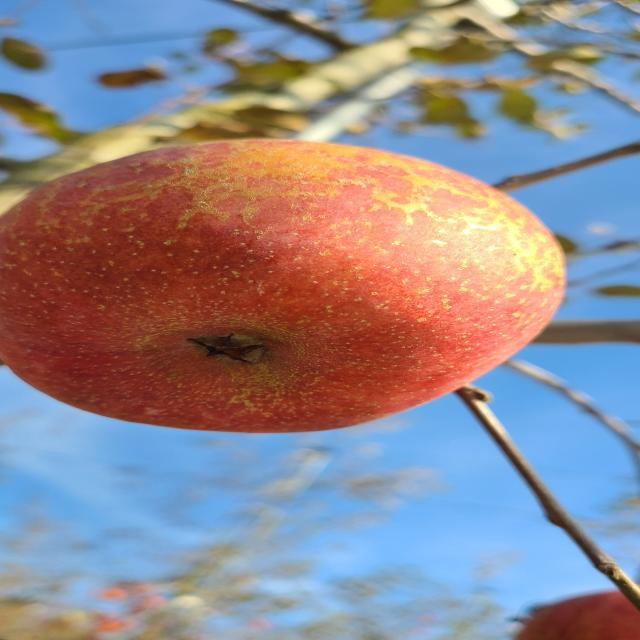fresh: (1, 124, 586, 441)
